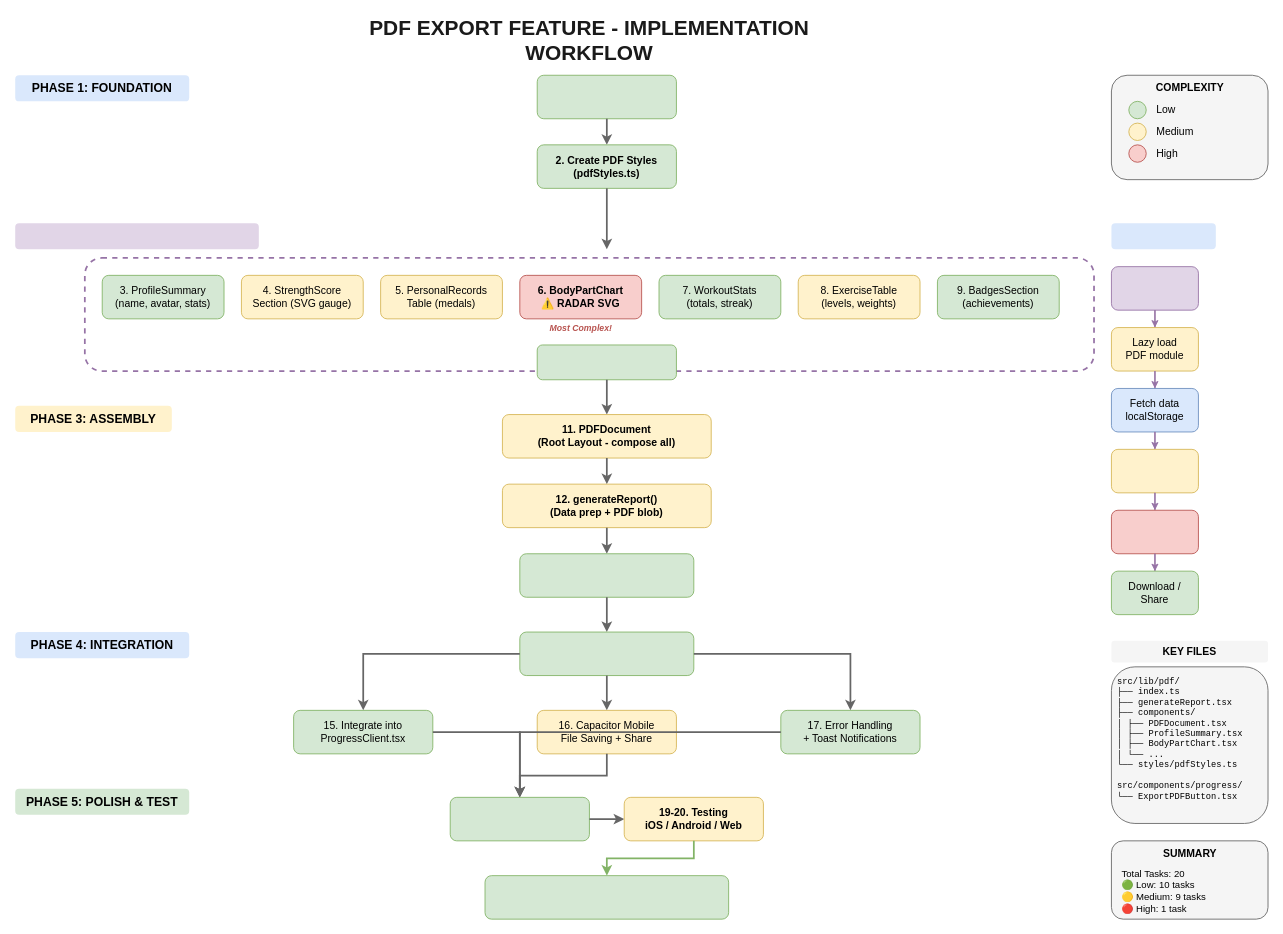
Image size: 1283x934. Some labels were removed from this diagram. The centre of each missing label's shape, as x and y in pixels:
"1. Install @react-pdf/renderer" goes at point (606, 96).
"10. Footer (branding, date)" goes at point (606, 362).
"13. Lazy Loading Wrapper (Dynamic import)" goes at point (606, 575).
"14. ExportPDFButton (UI Component)" goes at point (606, 653).
"18. Unit Conversion (kg/lbs preference)" goes at point (519, 818).
"DATA FLOW" goes at point (1163, 236).
"Generate PDF Blob" goes at point (1154, 531).
"PHASE 2: PDF COMPONENTS (Parallel)" goes at point (136, 236).
"Render PDFDocument" goes at point (1154, 470).
"User clicks Export PDF" goes at point (1154, 288).
"✅ FEATURE COMPLETE" goes at point (606, 897).
